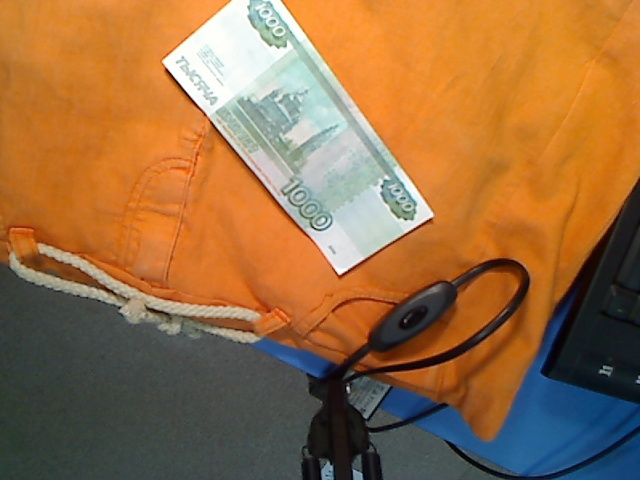banknotes: (160, 1, 438, 277)
